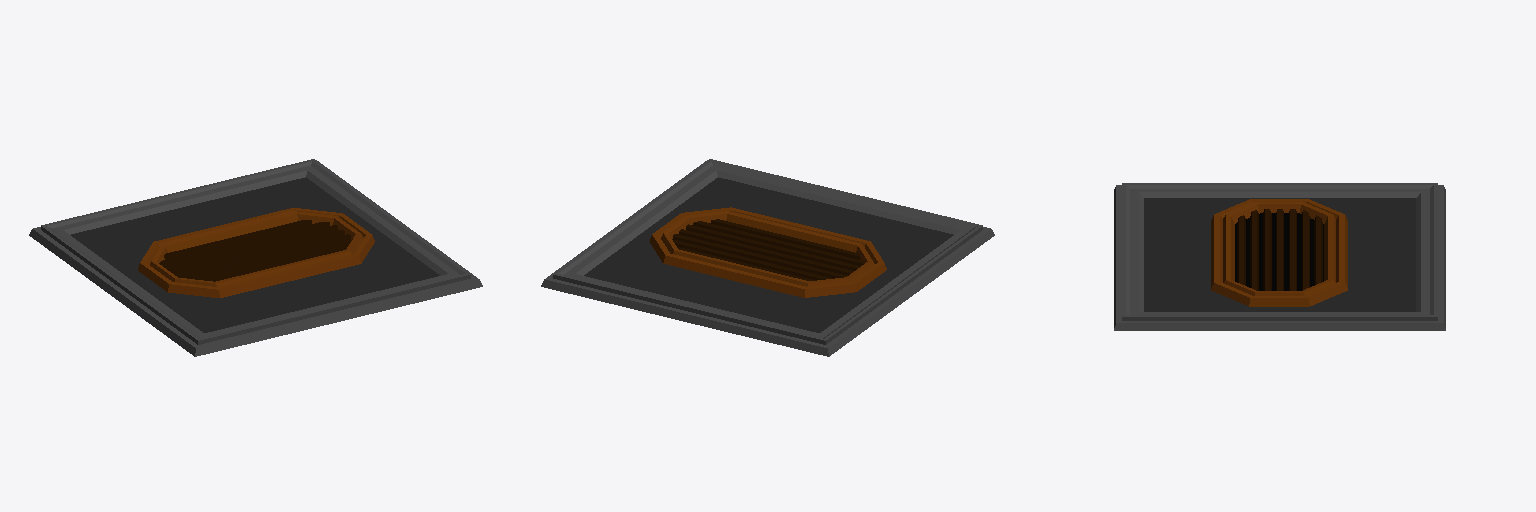
The model's file is RoofTile_OrangeVent.obj.
3 views of the same model, side by side, from view 1: azimuth 30°, elevation 25°; view 2: azimuth 150°, elevation 25°; view 3: azimuth 270°, elevation 25° (orthographic).
Parts seen in each view (by area): view 1: RoofTile_OrangeVent_Plane.123; view 2: RoofTile_OrangeVent_Plane.123; view 3: RoofTile_OrangeVent_Plane.123.
Part boxes in pixels (x1,y1,x2,y2): RoofTile_OrangeVent_Plane.123: (29, 159, 482, 356); RoofTile_OrangeVent_Plane.123: (541, 159, 994, 356); RoofTile_OrangeVent_Plane.123: (1114, 183, 1445, 330).
Size of the model in its own units: 2 by 0.1157 by 2.